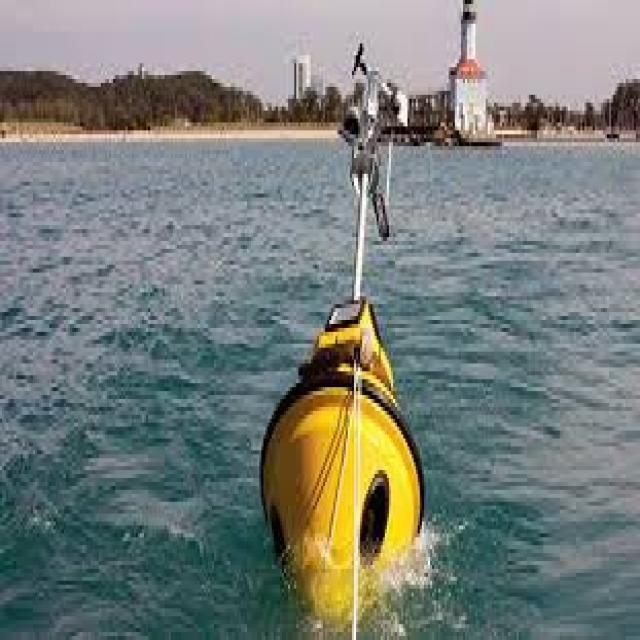2.5 sepcial mark: (257, 29, 436, 630)
